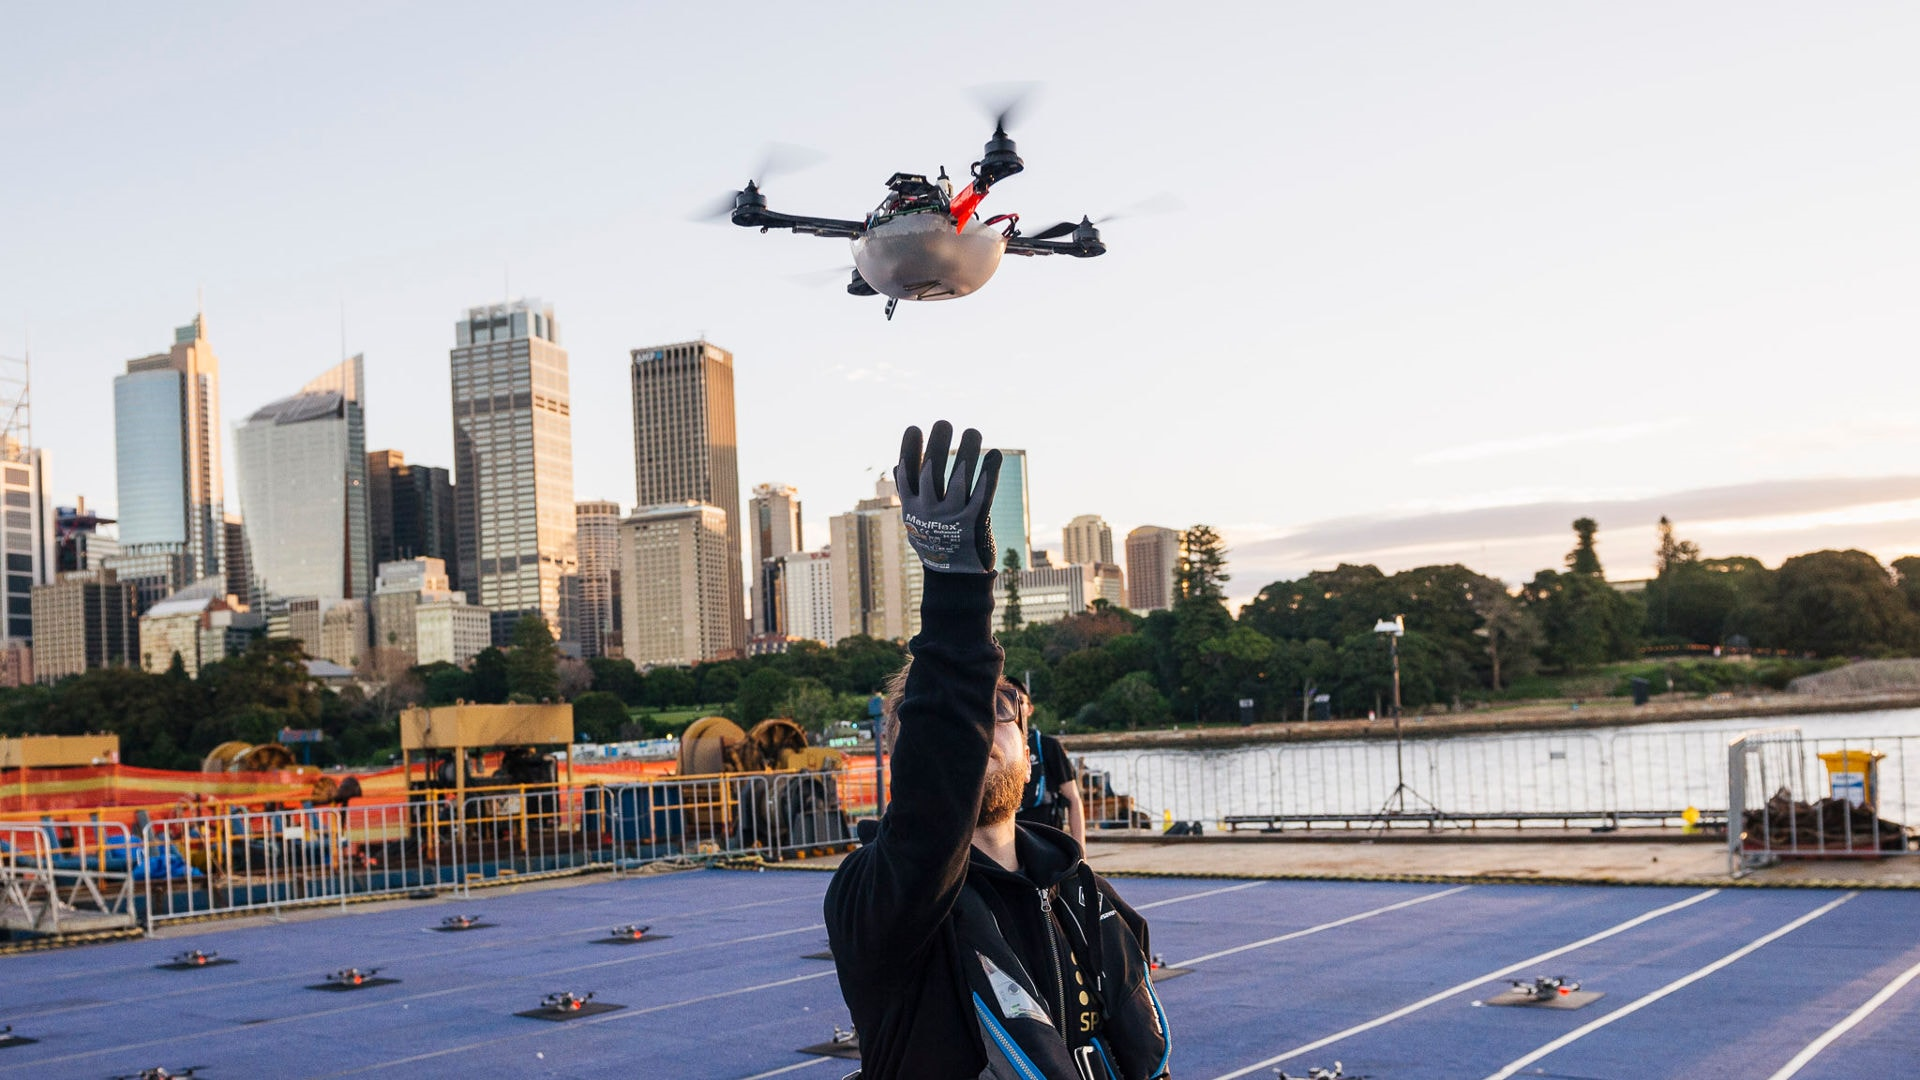drone: (687, 84, 1182, 325), (1494, 971, 1609, 1010), (307, 963, 407, 1002), (1269, 1046, 1377, 1080), (154, 942, 245, 978), (534, 981, 608, 1026), (1110, 938, 1188, 979), (425, 910, 513, 942), (130, 1056, 226, 1080), (591, 920, 676, 945), (831, 1017, 878, 1040)
person: (829, 419, 1176, 1080)
